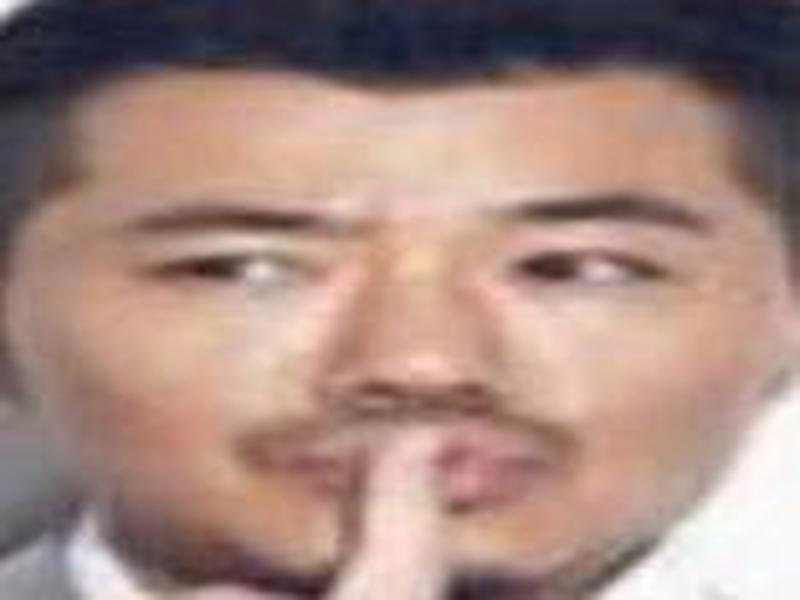without_mask: (53, 70, 768, 584)
